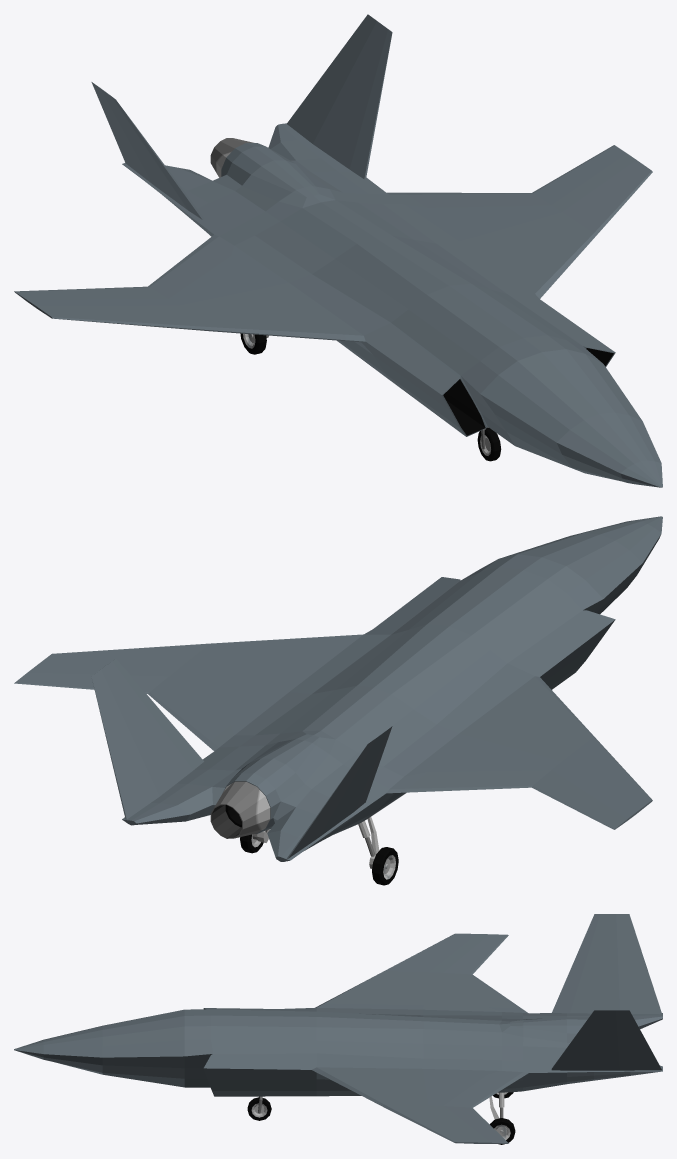
The picture shows the model from 3 angles, top to bottom: view 1: azimuth 30°, elevation 25°; view 2: azimuth 150°, elevation 25°; view 3: azimuth 270°, elevation 25°; orthographic projection. The views are drawn at different scales.
Visible parts, largest first — view 1: body, L_rudder, R_Rudder, R_ailerone, L_ailerone; view 2: body, L_rudder, R_Rudder, R_ailerone, L_ailerone, Landing gear_RR; view 3: body, R_Rudder, L_rudder, L_ailerone, R_ailerone, Landing gear_RL, Landing gear_F.
Boxes of the visible parts, bbox=[...] form: body: bbox=[14, 123, 662, 487]; L_rudder: bbox=[287, 14, 392, 179]; R_Rudder: bbox=[91, 82, 204, 219]; R_ailerone: bbox=[148, 241, 230, 298]; L_ailerone: bbox=[404, 192, 550, 207]; body: bbox=[14, 516, 662, 861]; L_rudder: bbox=[91, 658, 203, 819]; R_Rudder: bbox=[287, 726, 392, 858]; R_ailerone: bbox=[404, 770, 550, 792]; L_ailerone: bbox=[148, 676, 230, 743]; Landing gear_RR: bbox=[358, 817, 398, 885]; body: bbox=[14, 933, 662, 1143]; R_Rudder: bbox=[551, 914, 661, 1014]; L_rudder: bbox=[551, 1010, 661, 1070]; L_ailerone: bbox=[444, 1075, 521, 1107]; R_ailerone: bbox=[444, 973, 521, 1008]; Landing gear_RL: bbox=[489, 1092, 515, 1144]; Landing gear_F: bbox=[247, 1096, 271, 1120].
Size of the model in its own units: 674 by 239 by 886.
